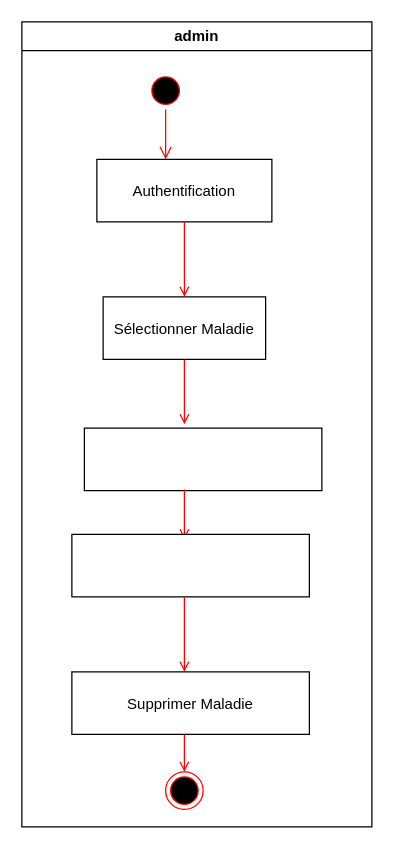
This 394x849 diagram has some shape labels left out. The centre of each missing label's shape, as x and y in pixels:
Afficher Informations sur la Maladie: point 202,459
Modifier Information de laMaladie: point 190,565
